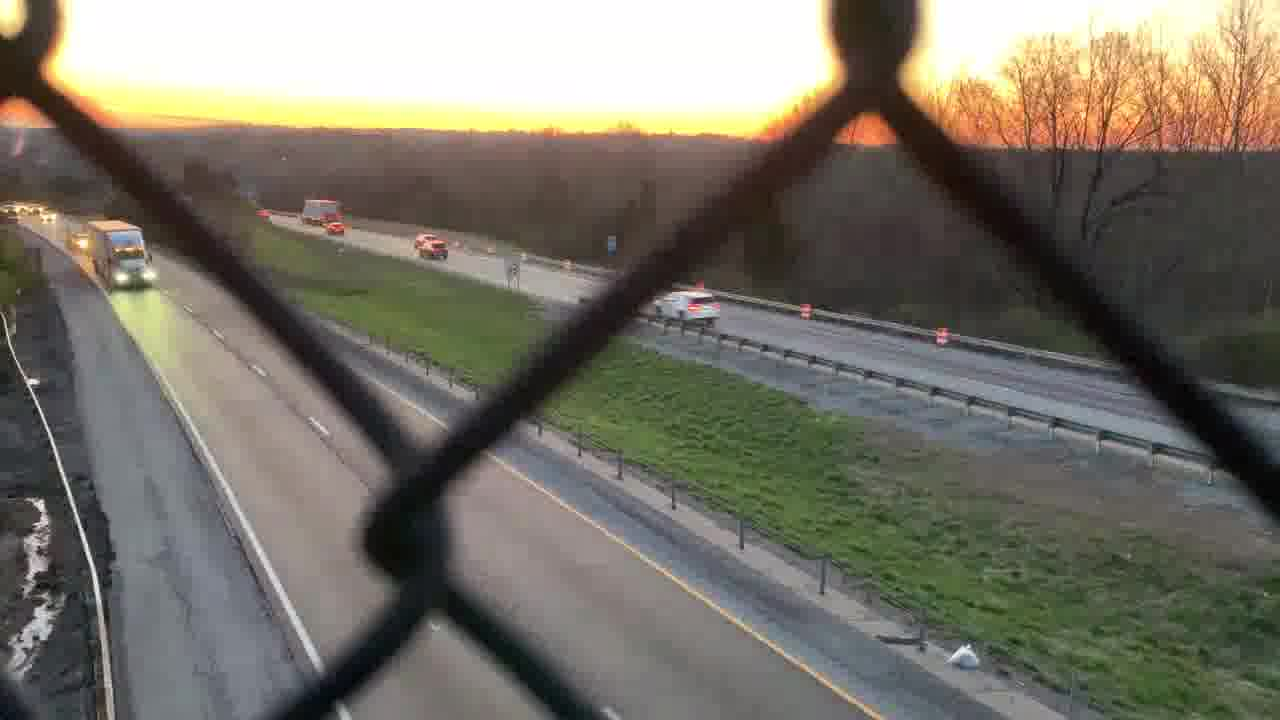heavyTruck: (85, 215, 164, 296), (299, 198, 344, 223)
largeCar: (649, 284, 722, 326), (417, 240, 452, 261)
vehicle: (37, 207, 58, 225), (324, 223, 350, 236), (412, 232, 436, 242)
